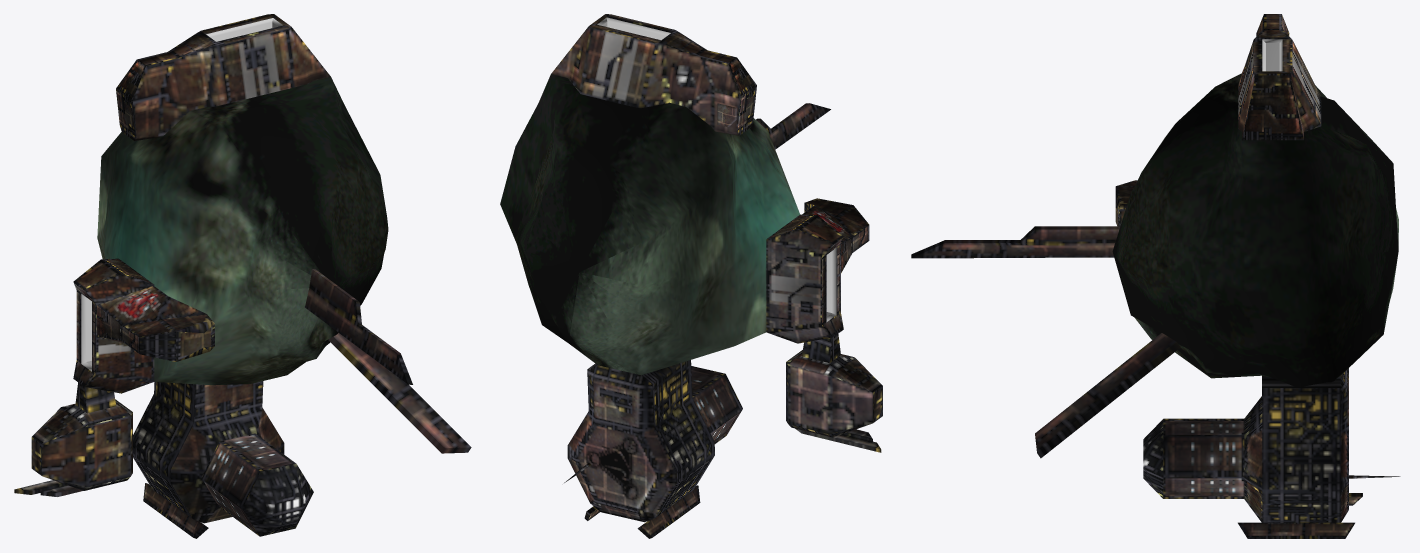
File: ss303_static.obj
The picture shows the model from 3 angles, left to right: view 1: azimuth 30°, elevation 25°; view 2: azimuth 150°, elevation 25°; view 3: azimuth 270°, elevation 25°; orthographic projection. The views are drawn at different scales.
Parts seen in each view (by area): view 1: frm-craterer1, frm-cyl1, frm-cube4, frm-cube34, frm-cube33, frm-cube35, frm-cube3, frm-extru48, frm-cube2, frm-east_bay_11_9, frm-east_bay_11_8; view 2: frm-craterer1, frm-cyl1, frm-cube4, frm-cube35, frm-cube34, frm-cube33, frm-extru48, frm-cube2, frm-east_bay_11_9, frm-east_bay_11_8, frm-cube12; view 3: frm-craterer1, frm-cyl1, frm-cube4, frm-extru48, frm-cube3, frm-cube1, frm-east_bay_11_8.
Boxes of the visible parts, <box> form: frm-craterer1: <box>97,77,388,385</box>; frm-cyl1: <box>133,381,313,536</box>; frm-cube4: <box>116,14,330,141</box>; frm-cube34: <box>31,382,132,490</box>; frm-cube33: <box>97,285,214,361</box>; frm-cube35: <box>73,258,154,393</box>; frm-cube3: <box>328,333,471,453</box>; frm-extru48: <box>305,269,412,384</box>; frm-cube2: <box>143,483,208,538</box>; frm-east_bay_11_9: <box>81,294,91,371</box>; frm-east_bay_11_8: <box>206,18,282,41</box>; frm-craterer1: <box>500,74,799,375</box>; frm-cyl1: <box>567,360,742,522</box>; frm-cube4: <box>551,14,756,135</box>; frm-cube35: <box>766,214,843,343</box>; frm-cube34: <box>786,334,882,437</box>; frm-cube33: <box>802,198,869,273</box>; frm-extru48: <box>756,103,830,149</box>; frm-cube2: <box>637,485,700,538</box>; frm-east_bay_11_9: <box>826,248,836,321</box>; frm-east_bay_11_8: <box>597,17,670,40</box>; frm-cube12: <box>795,428,881,452</box>; frm-craterer1: <box>1112,73,1398,387</box>; frm-cyl1: <box>1143,368,1348,522</box>; frm-cube4: <box>1238,14,1321,140</box>; frm-extru48: <box>911,226,1120,258</box>; frm-cube3: <box>1035,333,1180,458</box>; frm-cube1: <box>1238,522,1354,538</box>; frm-east_bay_11_8: <box>1262,39,1282,71</box>.
Bounding box in the file's own units: 80.4 × 102 × 96.02.
